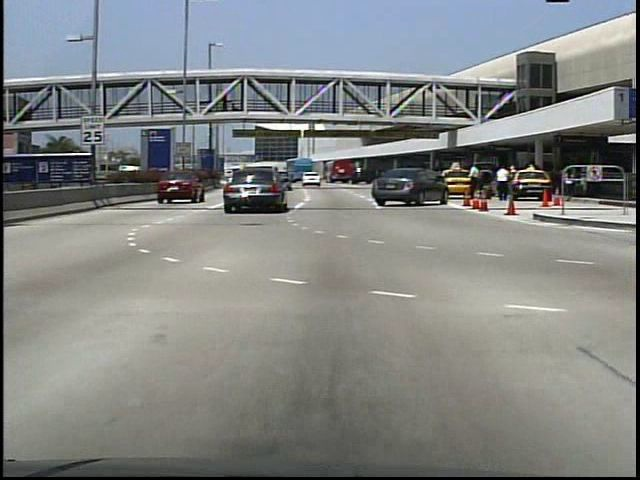person: (494, 163, 514, 203), (468, 165, 486, 205), (560, 168, 578, 205), (508, 164, 519, 201), (222, 94, 232, 115)
